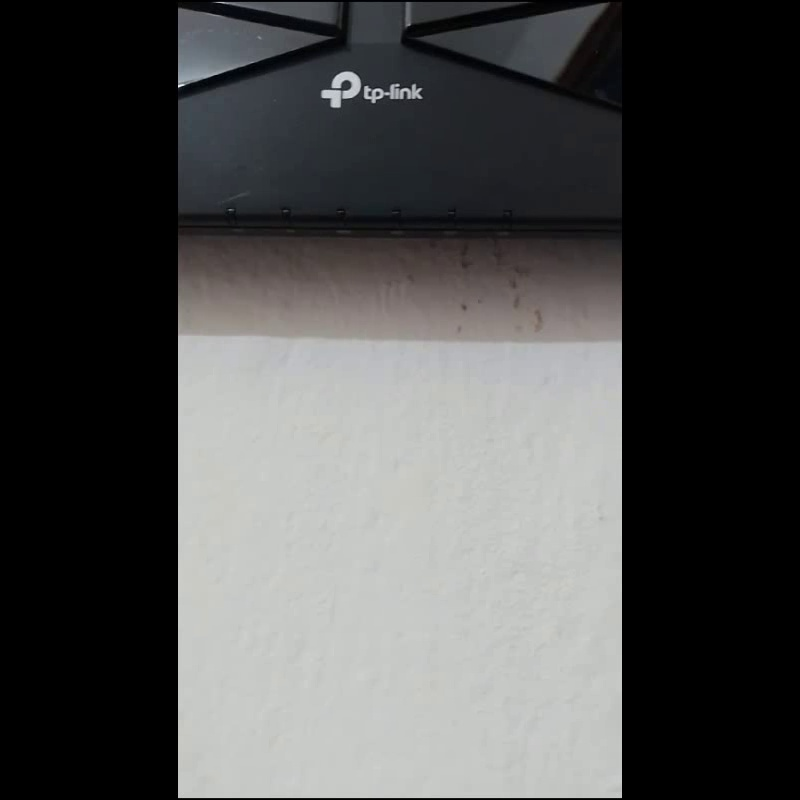off: (445, 206, 456, 227), (391, 206, 402, 227), (226, 207, 237, 225), (501, 208, 511, 227), (336, 206, 346, 225), (280, 206, 290, 224)
